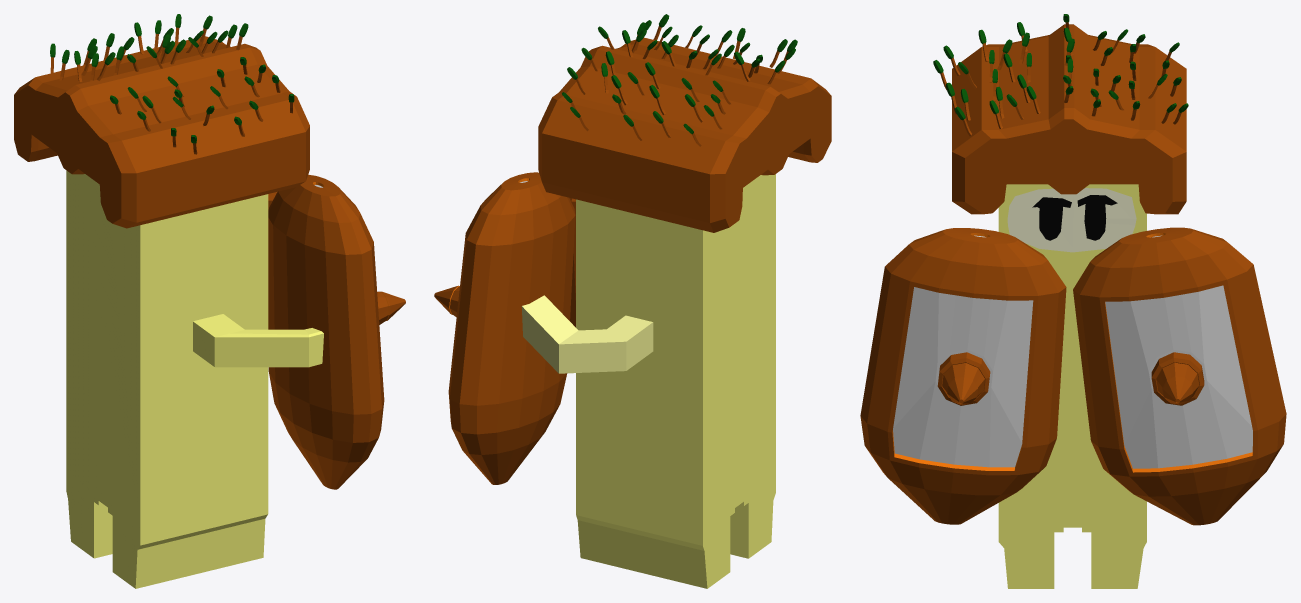
3 renders of one model, left to right at view 1: azimuth 30°, elevation 25°; view 2: azimuth 150°, elevation 25°; view 3: azimuth 270°, elevation 25°, orthographic.
Visible parts, largest first — view 1: Palm Defender; view 2: Palm Defender; view 3: Palm Defender.
Boxes of the visible parts, x1=… form: Palm Defender: x1=14, y1=14, x2=405, y2=588; Palm Defender: x1=434, y1=14, x2=831, y2=588; Palm Defender: x1=860, y1=14, x2=1286, y2=588.
Size of the model in its own units: 1.45 by 2.44 by 1.83.
1 material, 1 textured.
